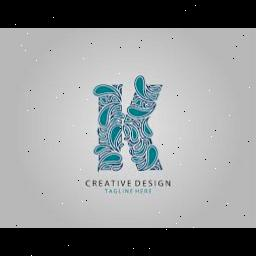k: (88, 72, 174, 176)
